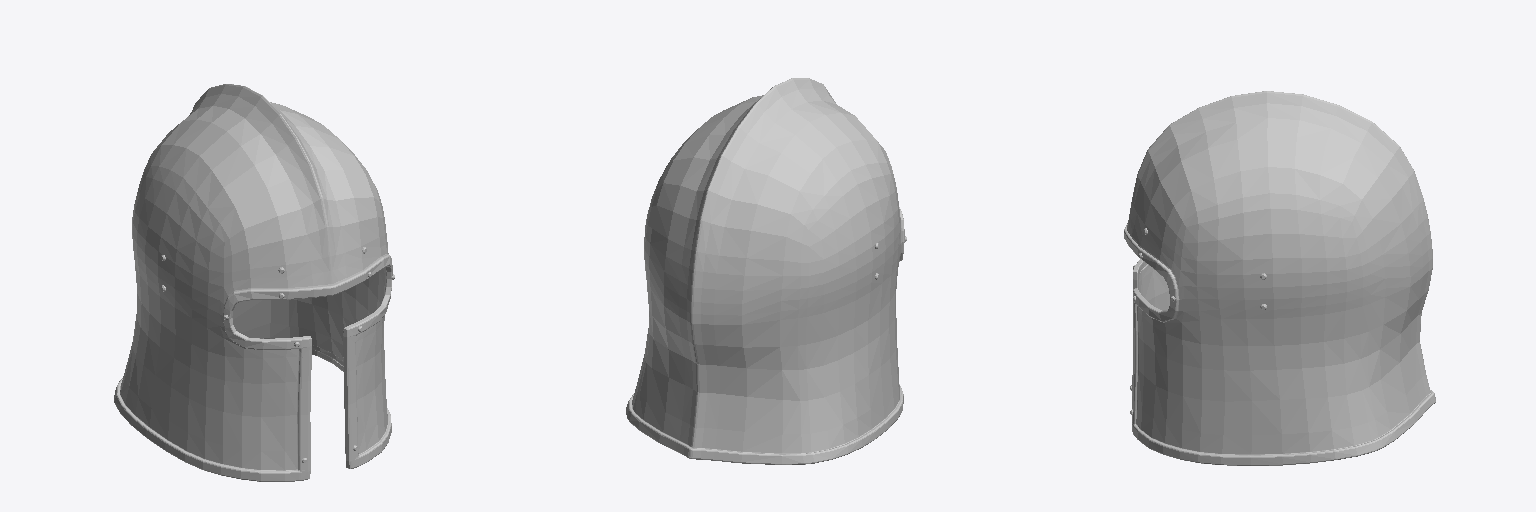
The model's file is Helm_Barbjut .obj.
3 views of the same model, side by side, from view 1: azimuth 30°, elevation 25°; view 2: azimuth 150°, elevation 25°; view 3: azimuth 270°, elevation 25° (orthographic).
Parts seen in each view (by area): view 1: Helm_Barbjut; view 2: Helm_Barbjut; view 3: Helm_Barbjut.
Boxes of the visible parts, x1=… form: Helm_Barbjut: x1=114, y1=84, x2=394, y2=481; Helm_Barbjut: x1=626, y1=78, x2=906, y2=464; Helm_Barbjut: x1=1124, y1=91, x2=1435, y2=465.
Size of the model in its own units: 1.06 by 1.52 by 1.3.